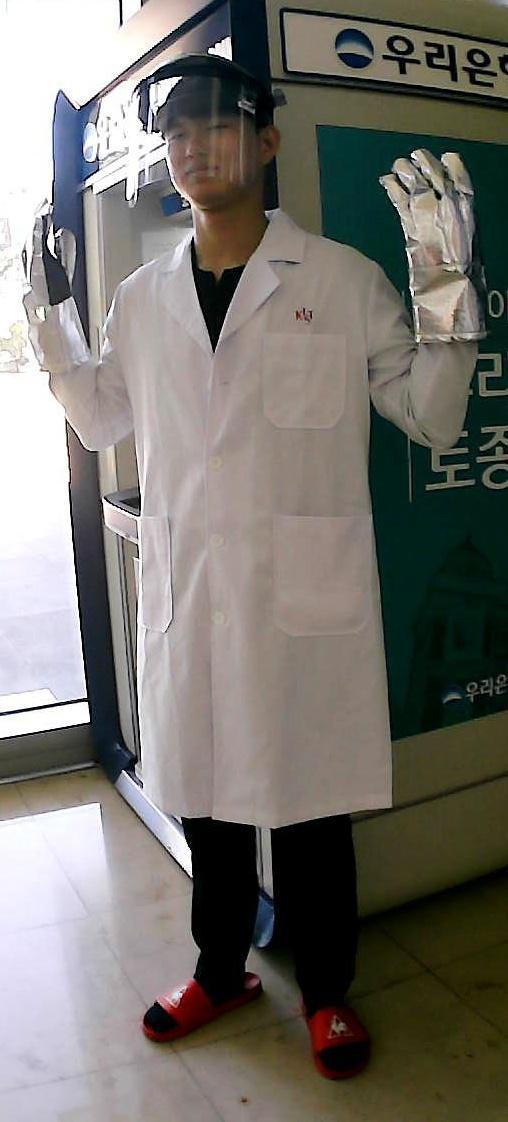lab_coat: (118, 258, 388, 800)
